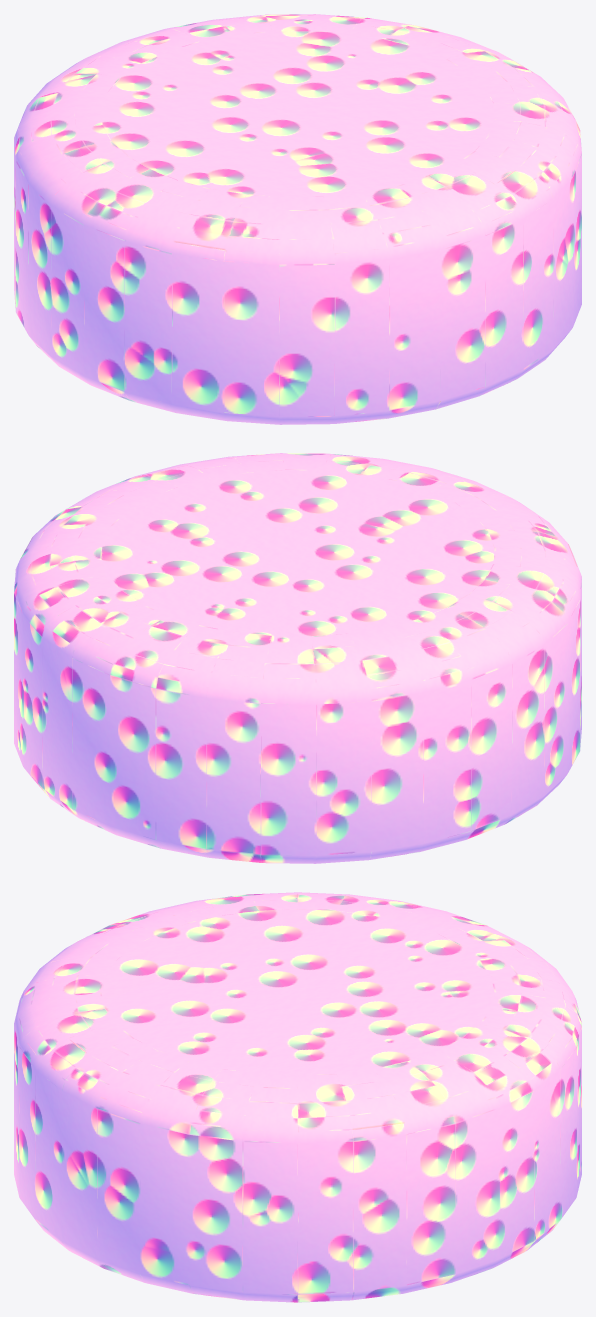
File: Cheese 1.fbx
3 renders of one model, top to bottom at view 1: azimuth 30°, elevation 25°; view 2: azimuth 150°, elevation 25°; view 3: azimuth 270°, elevation 25°, orthographic.
Visible parts, largest first — view 1: Cylinder; view 2: Cylinder; view 3: Cylinder.
Part boxes in pixels (<box>): Cylinder: <box>14,14,581,424</box>; Cylinder: <box>14,453,581,863</box>; Cylinder: <box>14,892,581,1302</box>.
Bounding box in the file's own units: 741 × 297 × 741.
